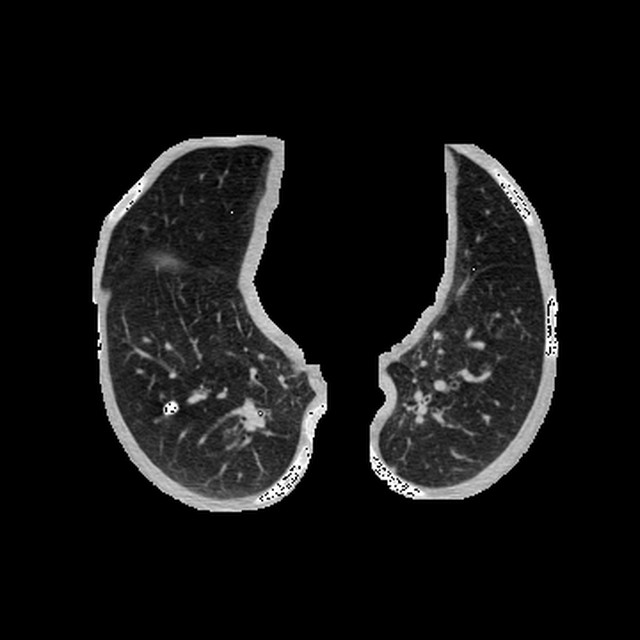PN: (164, 400, 178, 414)
